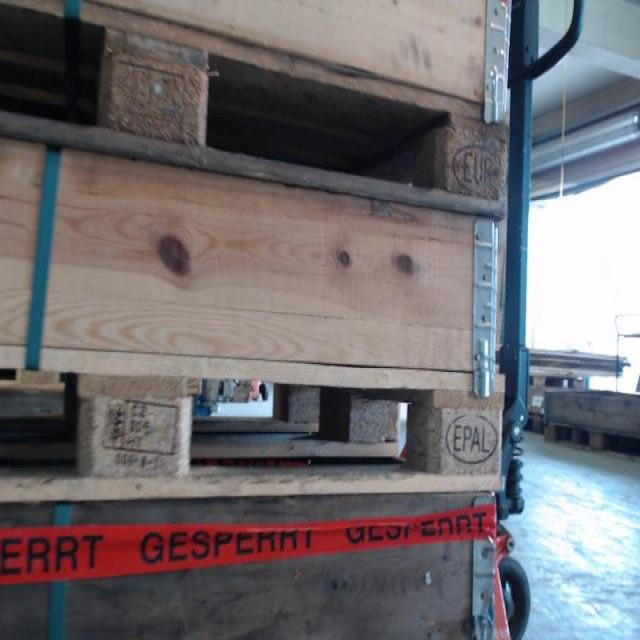pallet: (0, 0, 514, 218), (0, 336, 507, 492), (544, 420, 640, 461), (527, 373, 586, 391)
pallet_truck: (496, 0, 596, 640), (248, 381, 278, 404)
